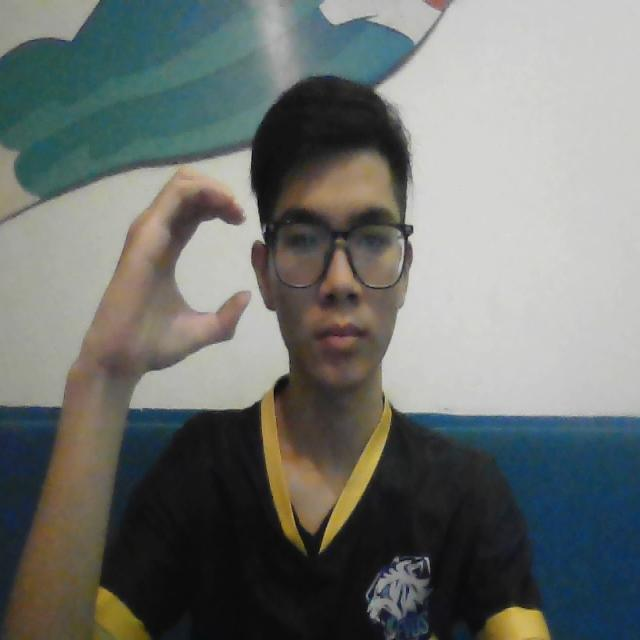C: (116, 166, 255, 366)
